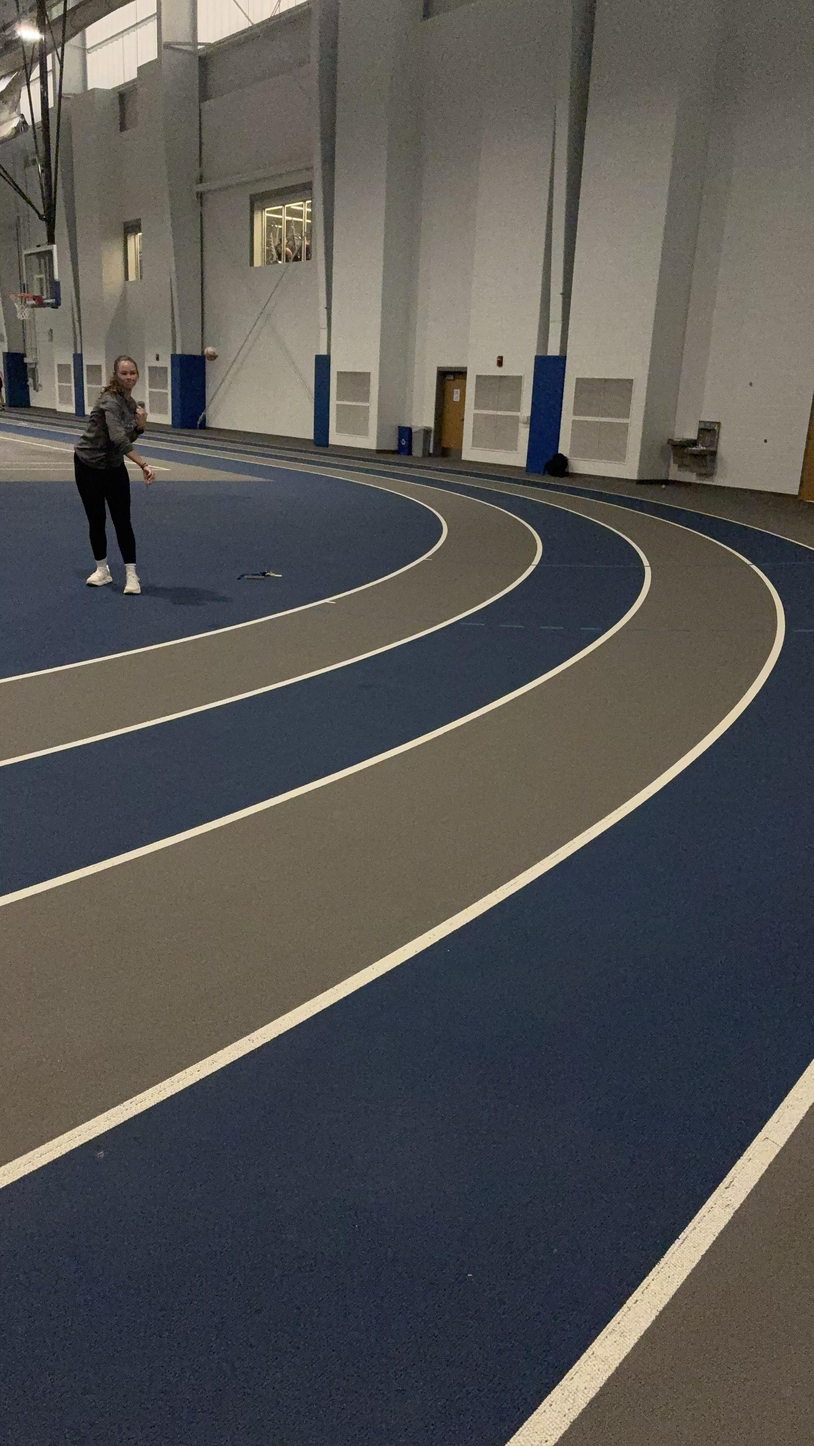Baseball: (203, 345, 220, 361)
